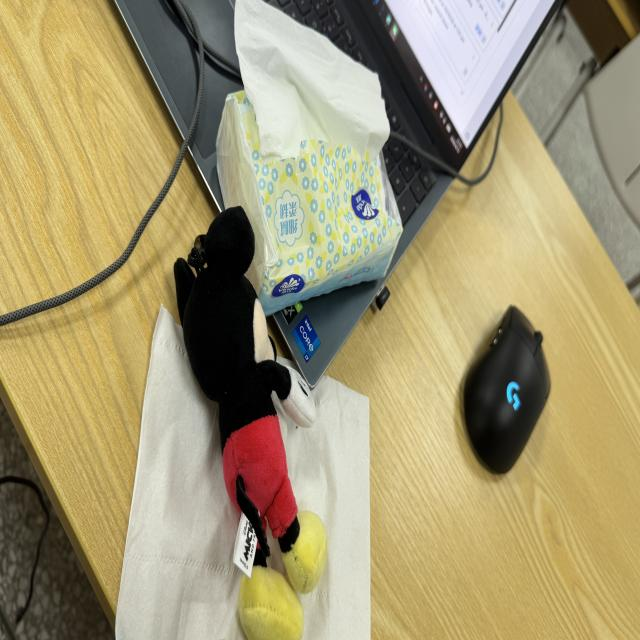mickey: (175, 207, 326, 639)
tissue: (217, 0, 401, 314), (218, 92, 402, 314), (235, 0, 389, 161)
